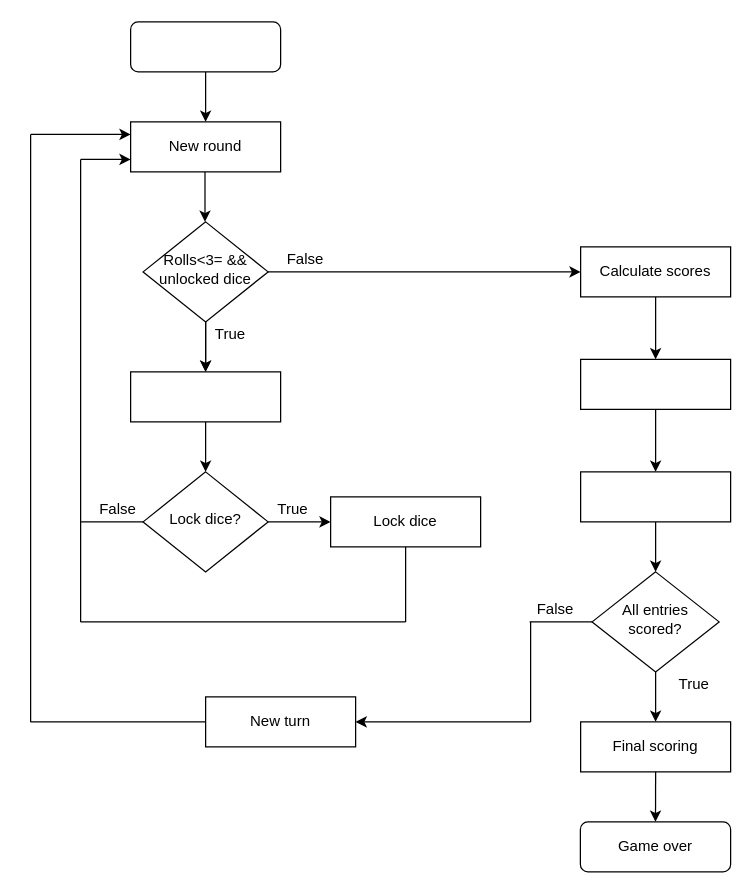
Some shapes in this 753 by 894 pixel diagram are drawn without their labels. Each missing label, with the box of its shape:
Choose where to score: (579, 471, 731, 522)
Display possible scores: (579, 358, 731, 409)
Roll unlockeddice: (129, 371, 281, 422)
Start game: (129, 21, 281, 72)
